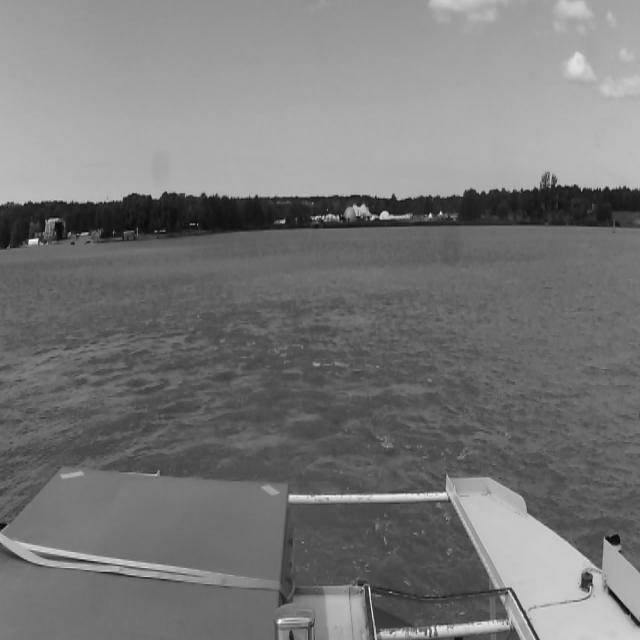buoy: (610, 212, 618, 239)
